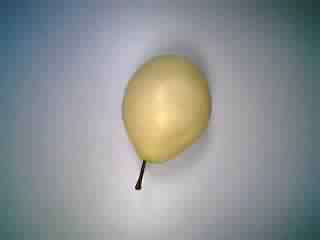pear: (100, 44, 222, 195)
